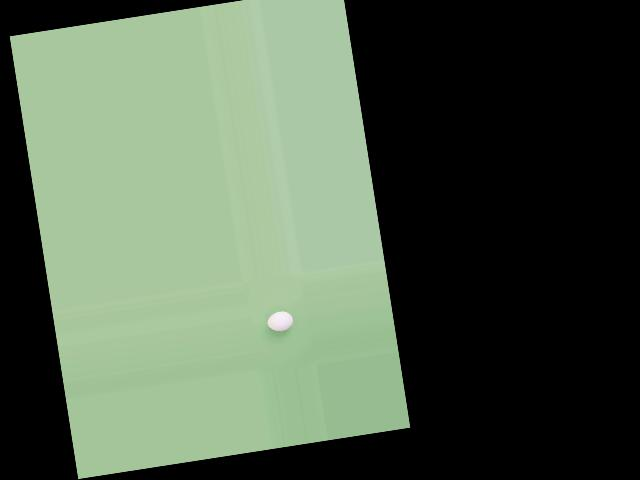egg: (266, 309, 295, 333)
